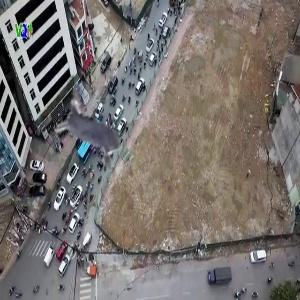drone: (22, 63, 166, 207)
